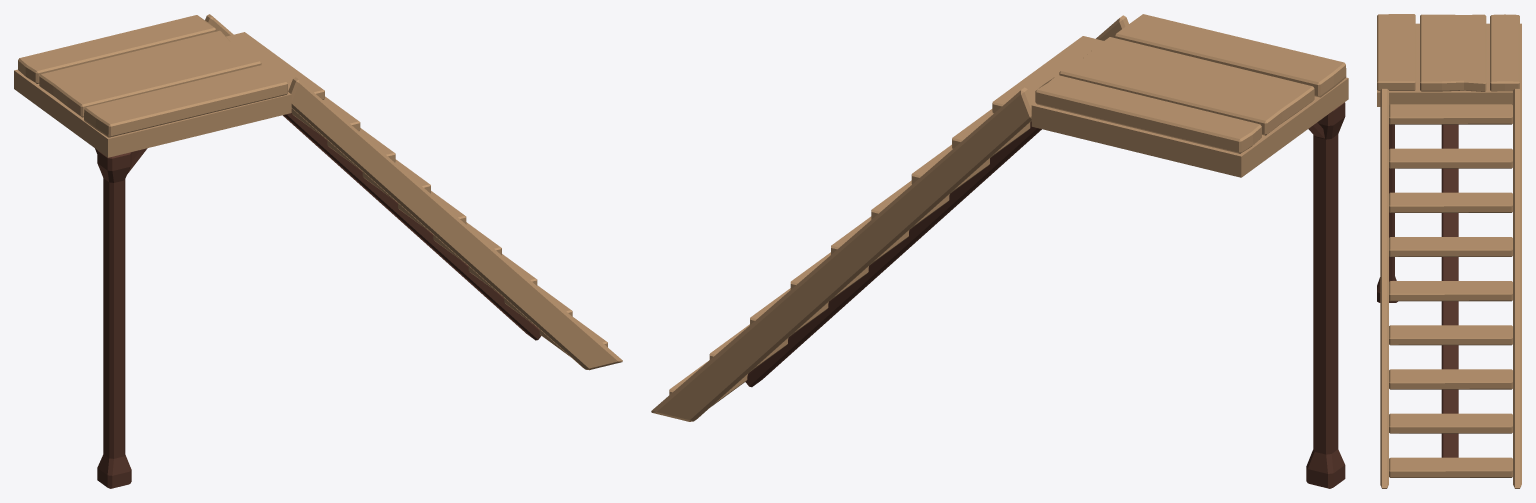
Rendered from Stairs C.fbx.
The picture shows the model from 3 angles, left to right: view 1: azimuth 30°, elevation 25°; view 2: azimuth 150°, elevation 25°; view 3: azimuth 270°, elevation 25°; orthographic projection. The views are drawn at different scales.
Visible parts, largest first — view 1: Stairs C; view 2: Stairs C; view 3: Stairs C.
Part boxes in pixels (x1,y1,x2,y2): Stairs C: [14, 14, 622, 488]; Stairs C: [651, 14, 1348, 488]; Stairs C: [1377, 14, 1521, 488].
Bounding box in the file's own units: 325 × 219 × 102.
